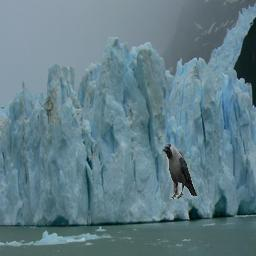Crow: (162, 143, 197, 199)
